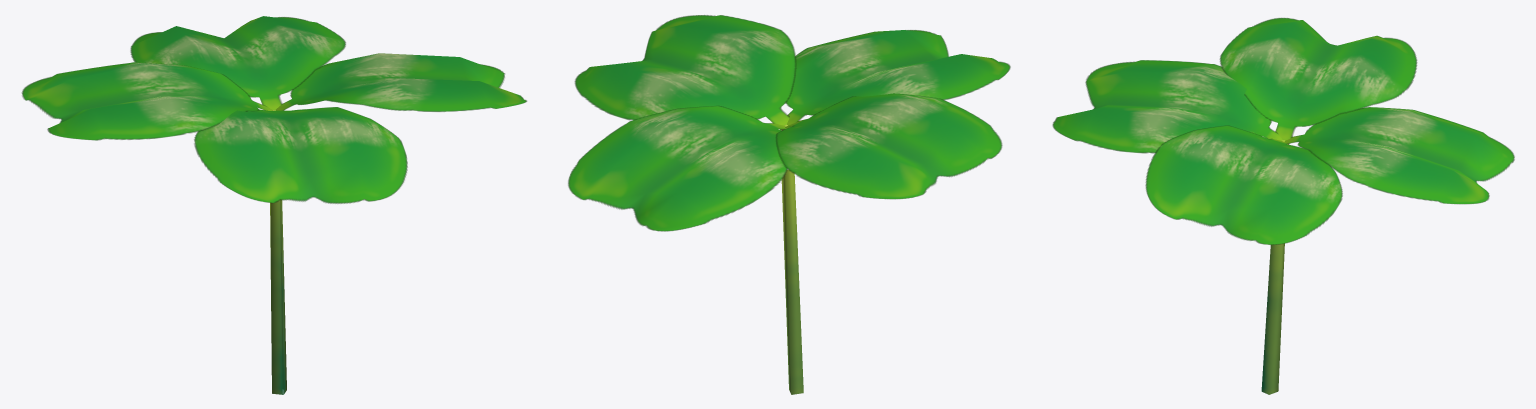
Rendered from clover_4.glb.
The picture shows the model from 3 angles, left to right: view 1: azimuth 30°, elevation 25°; view 2: azimuth 150°, elevation 25°; view 3: azimuth 270°, elevation 25°; orthographic projection. The views are drawn at different scales.
Parts seen in each view (by area): view 1: clover_lucky; view 2: clover_lucky; view 3: clover_lucky.
Boxes of the visible parts, bbox=[...] form: clover_lucky: bbox=[22, 16, 526, 394]; clover_lucky: bbox=[568, 15, 1010, 394]; clover_lucky: bbox=[1052, 18, 1514, 394].
Size of the model in its own units: 0.00672 by 0.00457 by 0.00672.
Materials: 1 (1 with a texture image).
